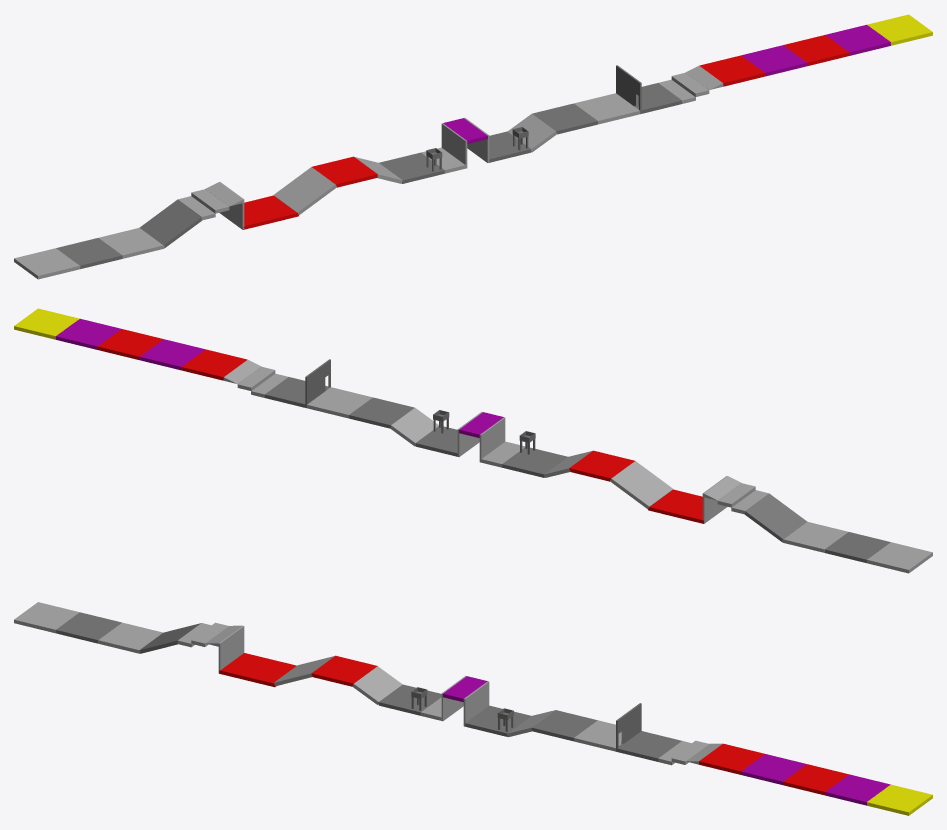
File: HORLevel1Path.fbx
3 renders of one model, top to bottom at view 1: azimuth 30°, elevation 25°; view 2: azimuth 150°, elevation 25°; view 3: azimuth 330°, elevation 25°, orthographic.
Parts seen in each view (by area): view 1: polySurface1; view 2: polySurface1; view 3: polySurface1.
Boxes of the visible parts, x1=… form: polySurface1: x1=14, y1=14, x2=932, y2=279; polySurface1: x1=14, y1=308, x2=932, y2=573; polySurface1: x1=14, y1=602, x2=932, y2=815.
Bounding box in the file's own units: 253 × 13.47 × 11.78.
